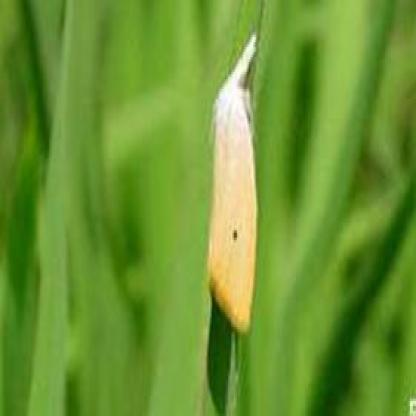stem-borer: (206, 33, 260, 334)
